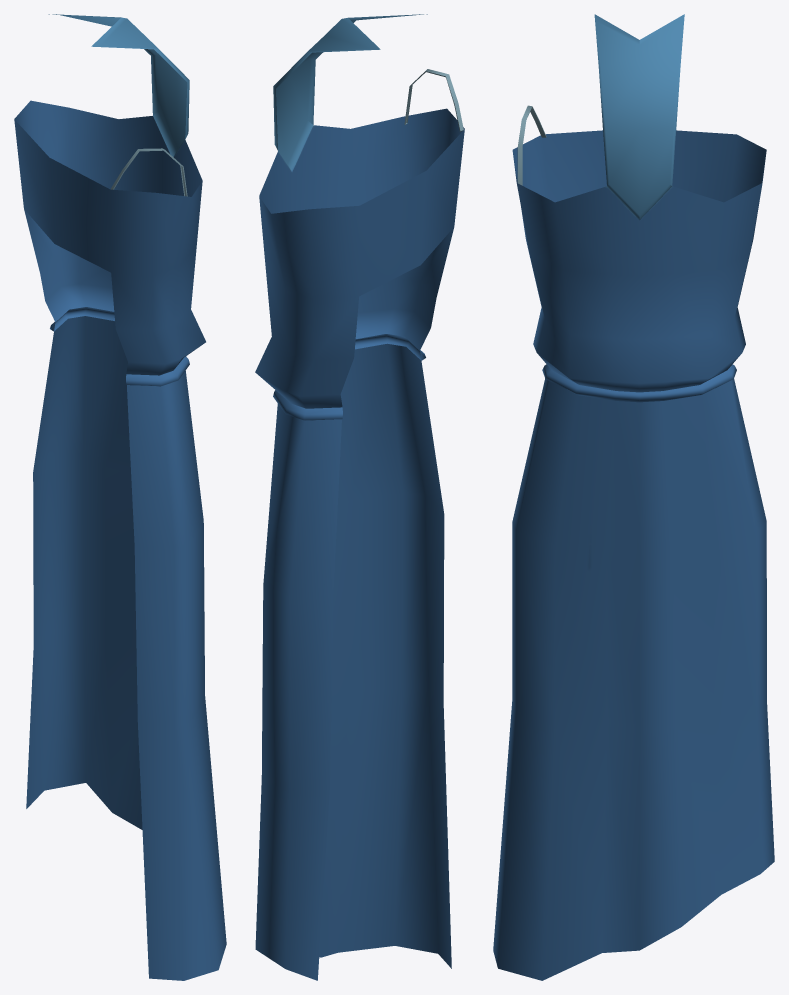
Rendered from Dress.fbx.
3 views of the same model, side by side, from view 1: azimuth 30°, elevation 25°; view 2: azimuth 150°, elevation 25°; view 3: azimuth 270°, elevation 25° (orthographic). The views are drawn at different scales.
Visible parts, largest first — view 1: Dress; view 2: Dress, Dress_strap; view 3: Dress.
Part boxes in pixels (bbox=[...]): Dress: bbox=[14, 14, 226, 980]; Dress: bbox=[255, 14, 464, 980]; Dress_strap: bbox=[404, 69, 463, 131]; Dress: bbox=[493, 14, 774, 980].
Size of the model in its own units: 18.25 by 119 by 33.06.
